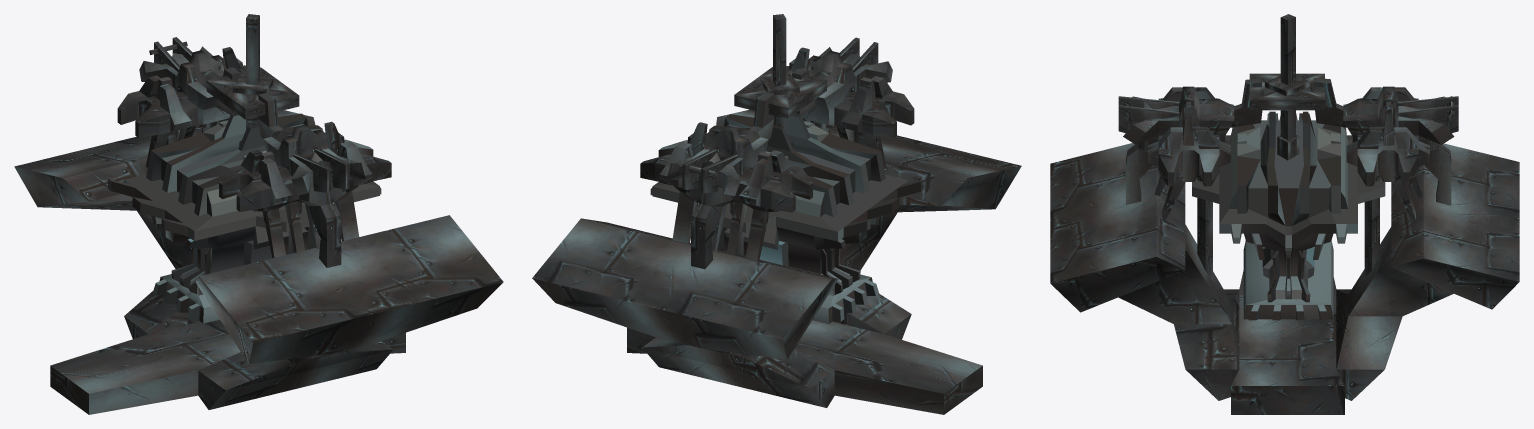
The model's file is Stamp.fbx.
3 renders of one model, left to right at view 1: azimuth 30°, elevation 25°; view 2: azimuth 150°, elevation 25°; view 3: azimuth 270°, elevation 25°, orthographic.
Visible parts, largest first — view 1: NotMovedObjectsCombined, stamp, pCube93; view 2: NotMovedObjectsCombined, stamp, pCube93; view 3: NotMovedObjectsCombined, stamp, pCube93, pCube94.
Boxes of the visible parts, x1,y1,x2,y2 form: NotMovedObjectsCombined: (14, 37, 503, 414); stamp: (108, 113, 381, 323); pCube93: (246, 14, 259, 129); NotMovedObjectsCombined: (532, 37, 1021, 414); stamp: (650, 113, 923, 323); pCube93: (773, 14, 786, 131); NotMovedObjectsCombined: (1050, 73, 1519, 414); stamp: (1192, 111, 1385, 320); pCube93: (1280, 14, 1295, 139); pCube94: (1277, 134, 1299, 160).
Bounding box in the file's own units: 3540 × 3760 × 4682.
